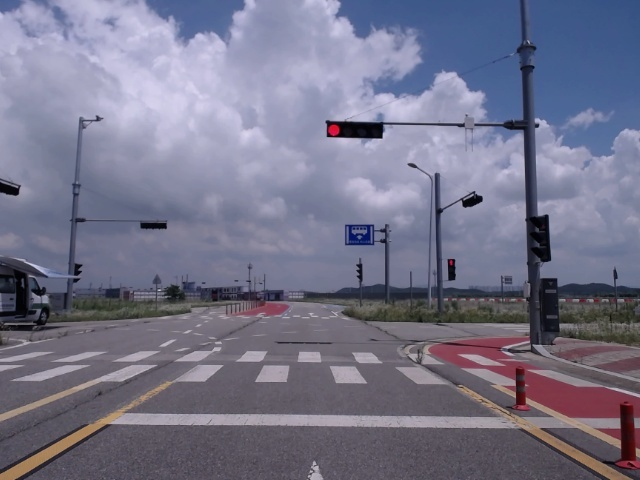red_4: (327, 123, 383, 139)
